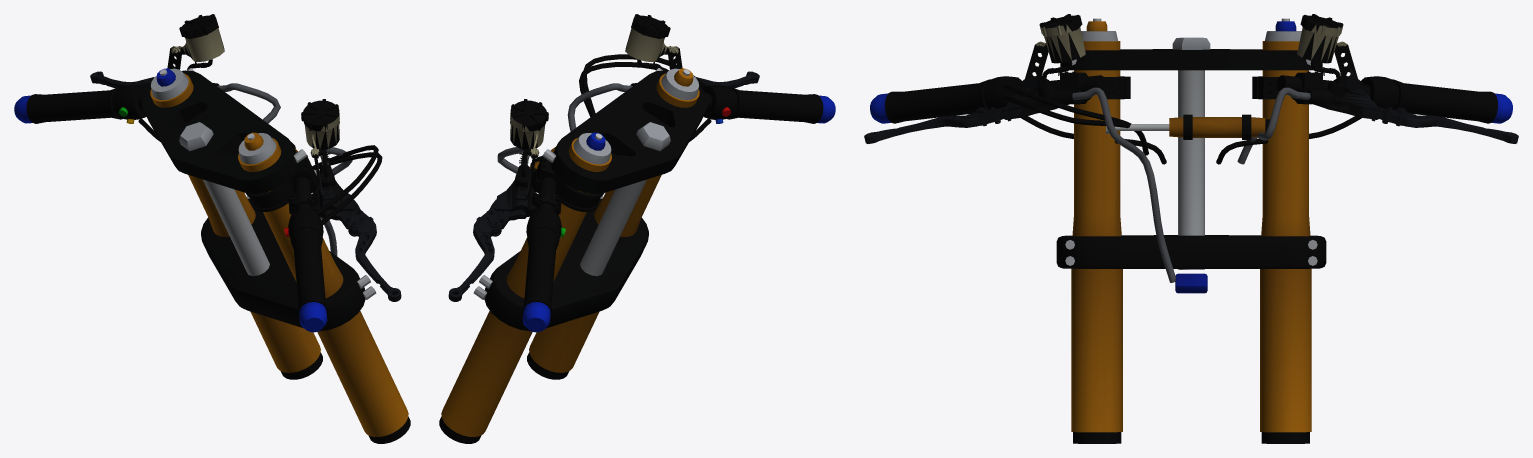
Rendered from bike_corsa600_front.glb.
3 renders of one model, left to right at view 1: azimuth 30°, elevation 25°; view 2: azimuth 150°, elevation 25°; view 3: azimuth 270°, elevation 25°, orthographic. The views are drawn at different scales.
Parts seen in each view (by area): view 1: sbc_clampU, sbc_forkO1, sbc_clampL, sbc_forkO-1, sbc_clipon1, sbc_grip-1, sbc_stem, sbc_clipon1_lever, sbc_grip1, sbc_clipon-1_resv, sbc_clipon1_cap, sbc_switch-1 (+13 smaller); view 2: sbc_clampU, sbc_forkO-1, sbc_clampL, sbc_forkO1, sbc_clipon-1, sbc_grip1, sbc_clipon-1_lever, sbc_stem, sbc_grip-1, sbc_clipon1_resv, sbc_clipon-1_cap, sbc_switch1 (+12 smaller); view 3: sbc_forkO-1, sbc_forkO1, sbc_clampL, sbc_clampU, sbc_clipon-1, sbc_stem, sbc_clipon1, sbc_grip1, sbc_grip-1, sbc_clipon-1_lever, sbc_clipon1_lever, sbc_brakeline (+10 smaller).
Boxes of the visible parts, <box> form: sbc_clampU: <box>141,70,299,193</box>; sbc_forkO1: <box>238,138,408,436</box>; sbc_clampL: <box>201,198,365,331</box>; sbc_forkO-1: <box>150,73,320,372</box>; sbc_clipon1: <box>245,124,343,217</box>; sbc_grip-1: <box>26,87,122,123</box>; sbc_stem: <box>203,179,269,276</box>; sbc_clipon1_lever: <box>317,156,401,301</box>; sbc_grip1: <box>290,227,327,316</box>; sbc_clipon-1_resv: <box>170,14,224,61</box>; sbc_clipon1_cap: <box>301,99,339,131</box>; sbc_switch-1: <box>112,85,147,119</box>; sbc_clampU: <box>550,70,708,193</box>; sbc_forkO-1: <box>441,138,611,436</box>; sbc_clampL: <box>484,198,648,331</box>; sbc_forkO1: <box>529,73,699,372</box>; sbc_clipon-1: <box>506,124,604,218</box>; sbc_grip1: <box>727,87,823,123</box>; sbc_clipon-1_lever: <box>448,156,532,301</box>; sbc_stem: <box>580,179,646,276</box>; sbc_grip-1: <box>522,227,559,316</box>; sbc_clipon1_resv: <box>625,14,679,61</box>; sbc_clipon-1_cap: <box>510,99,548,131</box>; sbc_switch1: <box>702,85,737,119</box>; sbc_forkO-1: <box>1260,41,1311,432</box>; sbc_forkO1: <box>1071,41,1122,432</box>; sbc_clampL: <box>1056,235,1326,268</box>; sbc_clampU: <box>1060,49,1322,70</box>; sbc_clipon-1: <box>1252,32,1371,117</box>; sbc_stem: <box>1178,70,1204,269</box>; sbc_clipon1: <box>1011,32,1130,117</box>; sbc_grip1: <box>885,79,989,123</box>; sbc_grip-1: <box>1393,79,1497,123</box>; sbc_clipon-1_lever: <box>1332,65,1518,143</box>; sbc_clipon1_lever: <box>864,65,1049,143</box>; sbc_brakeline: <box>1072,87,1175,282</box>.
Size of the model in its own units: 0.2831 by 0.4819 by 0.7288.
